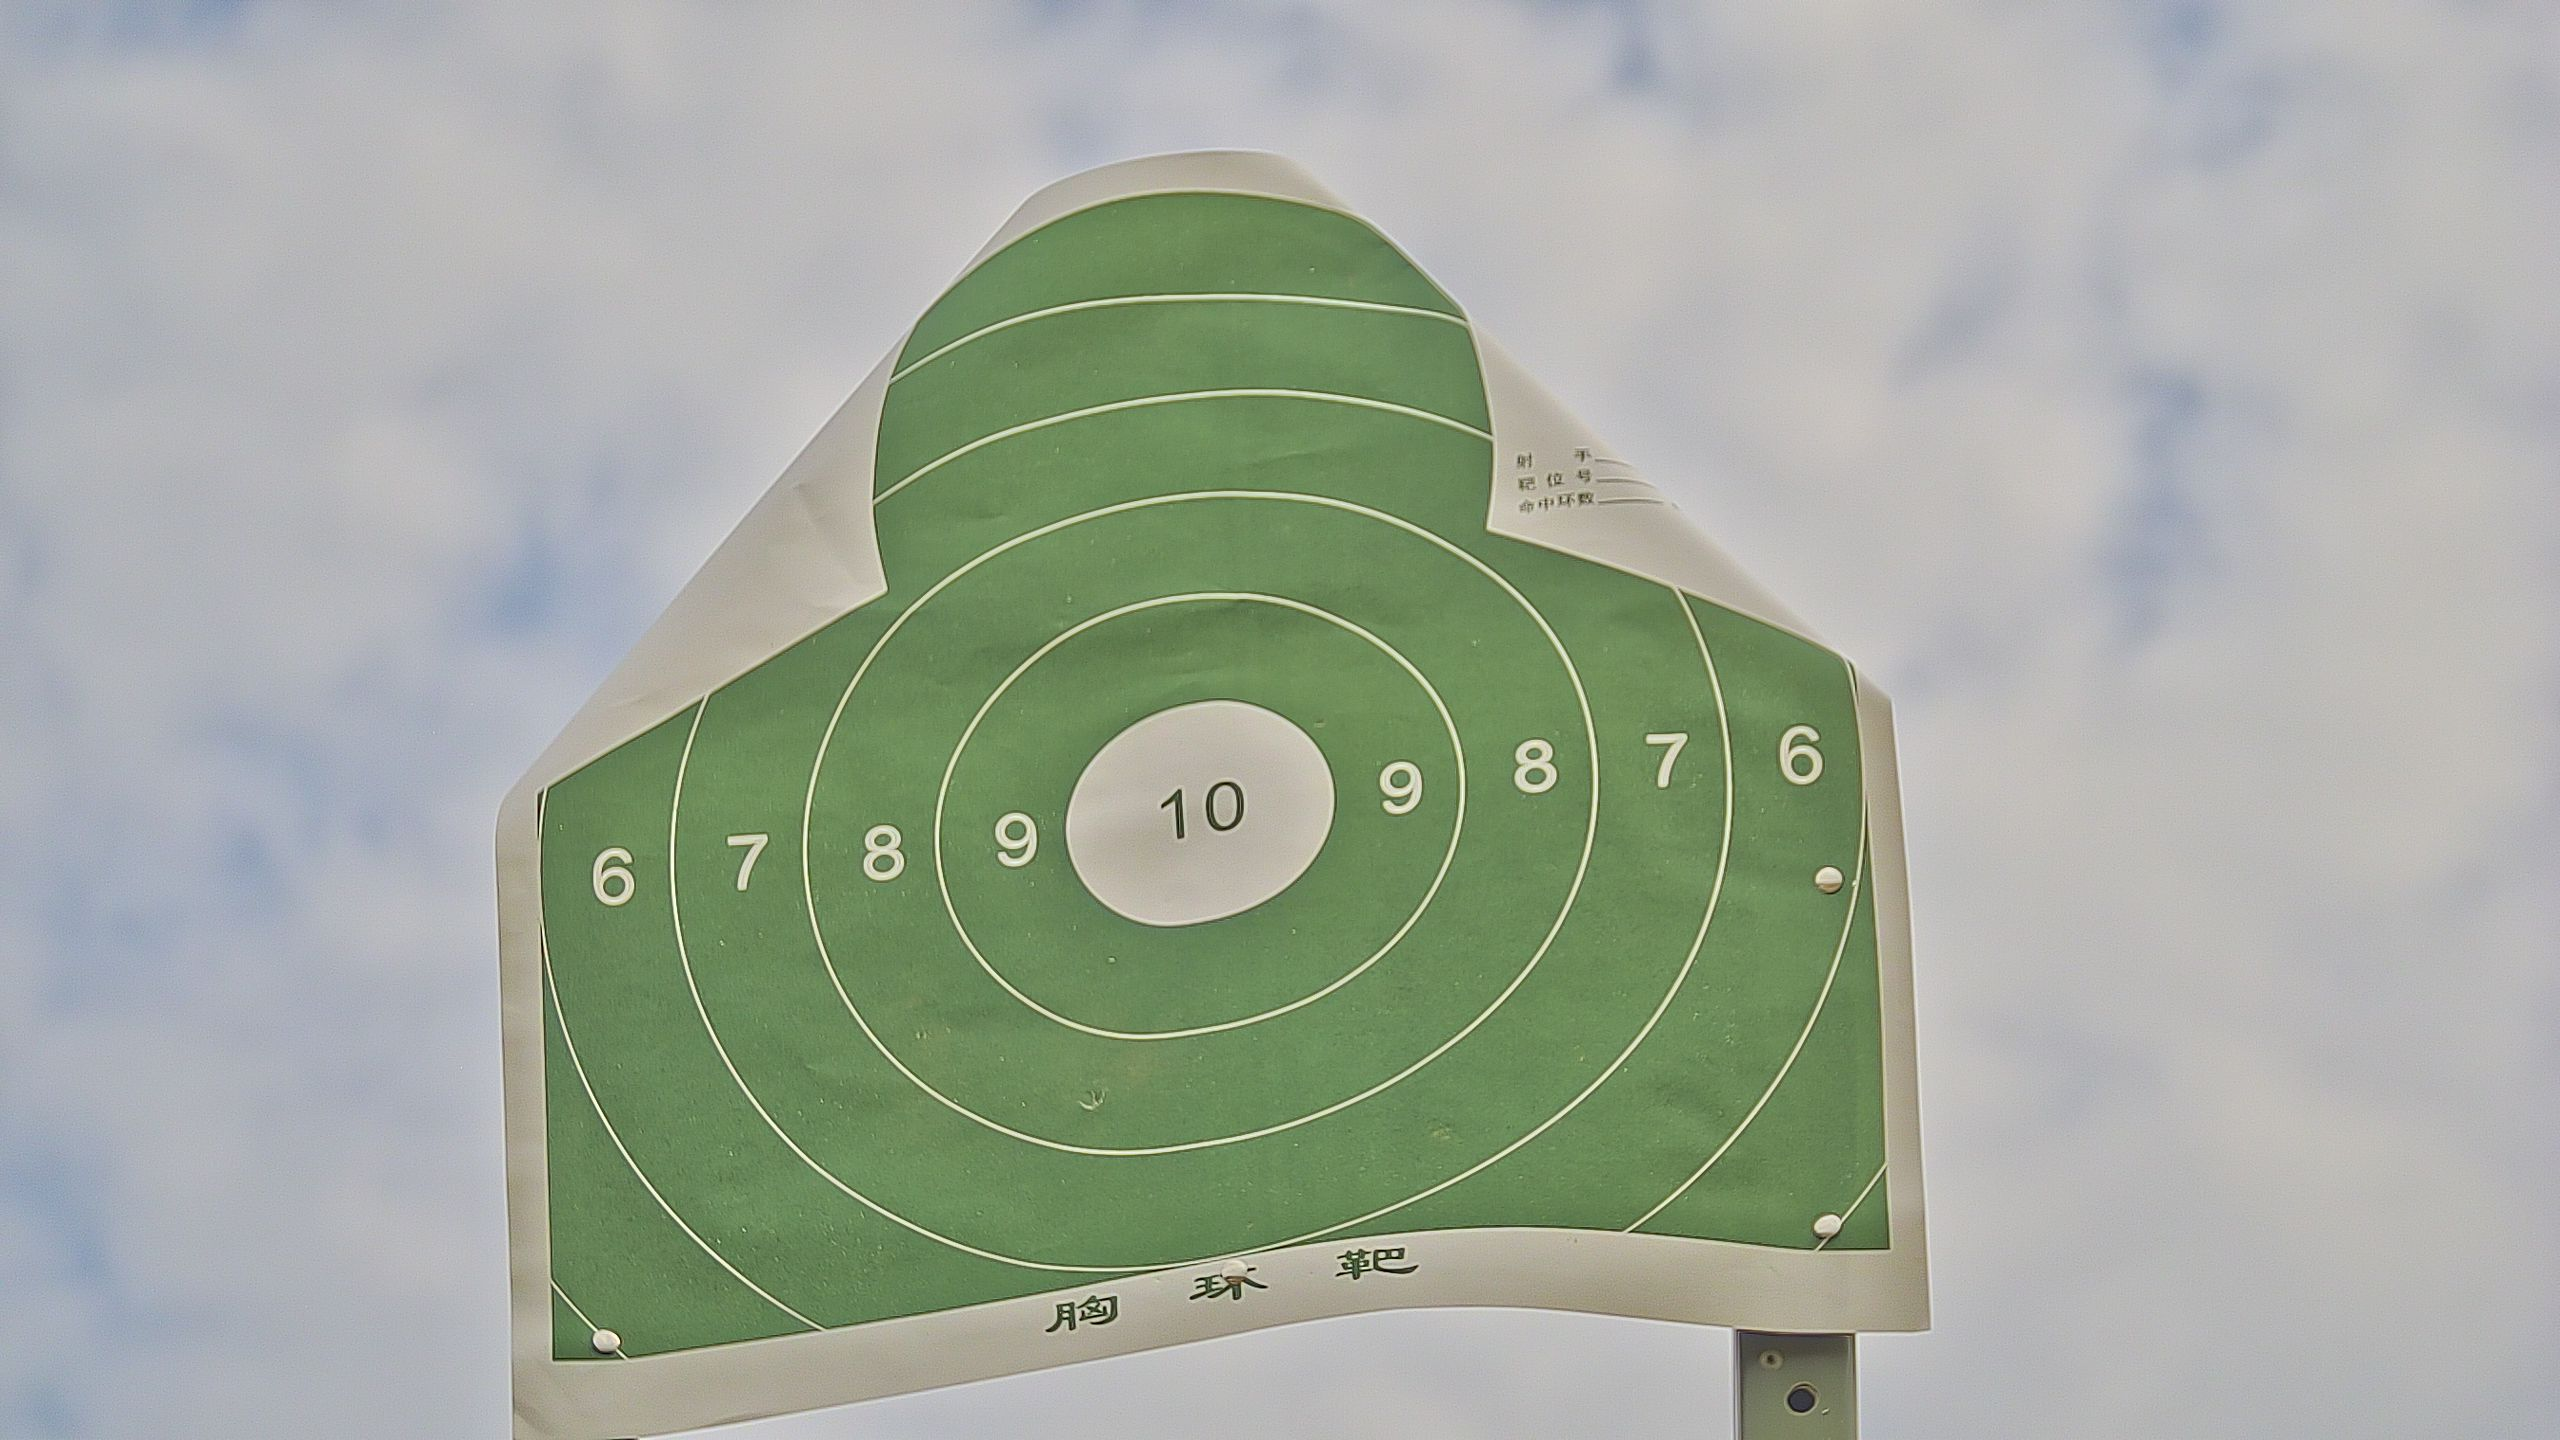target: (536, 195, 1895, 1366)
ten: (1065, 696, 1336, 932)
